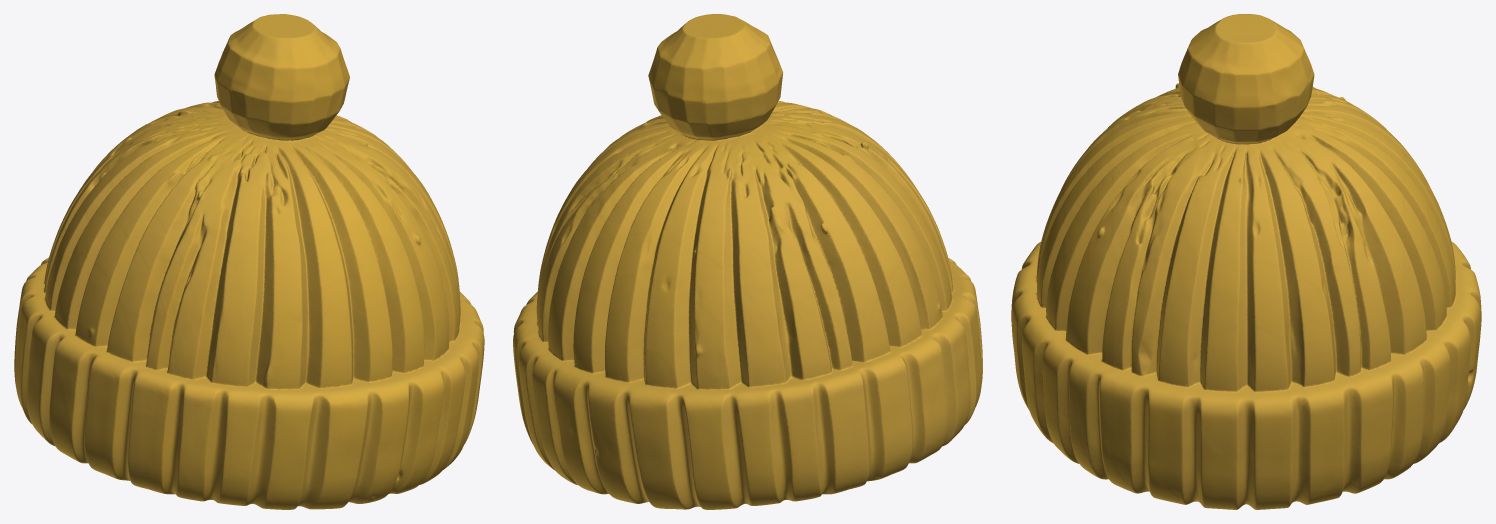
Rendered from acc_beanie.glb.
3 renders of one model, left to right at view 1: azimuth 30°, elevation 25°; view 2: azimuth 150°, elevation 25°; view 3: azimuth 270°, elevation 25°, orthographic.
Parts seen in each view (by area): view 1: tripo_node_1822d45e-30f1-4d97-9627-fe7b33c4d0ca; view 2: tripo_node_1822d45e-30f1-4d97-9627-fe7b33c4d0ca; view 3: tripo_node_1822d45e-30f1-4d97-9627-fe7b33c4d0ca.
Part boxes in pixels (x1,y1,x2,y2): tripo_node_1822d45e-30f1-4d97-9627-fe7b33c4d0ca: (14, 14, 484, 509); tripo_node_1822d45e-30f1-4d97-9627-fe7b33c4d0ca: (513, 14, 982, 509); tripo_node_1822d45e-30f1-4d97-9627-fe7b33c4d0ca: (1011, 14, 1481, 509).
Size of the model in its own units: 1 by 0.9745 by 0.9982.
Materials: 1 (1 with a texture image).
